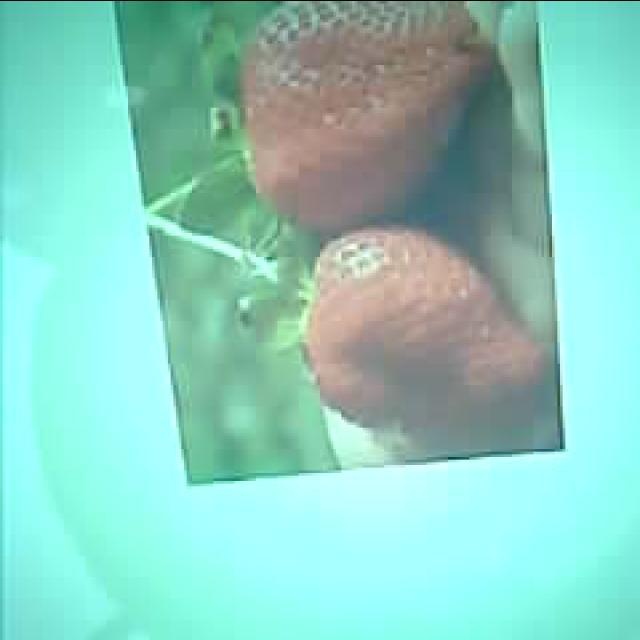strawberry: (242, 0, 490, 222), (302, 230, 546, 433)
